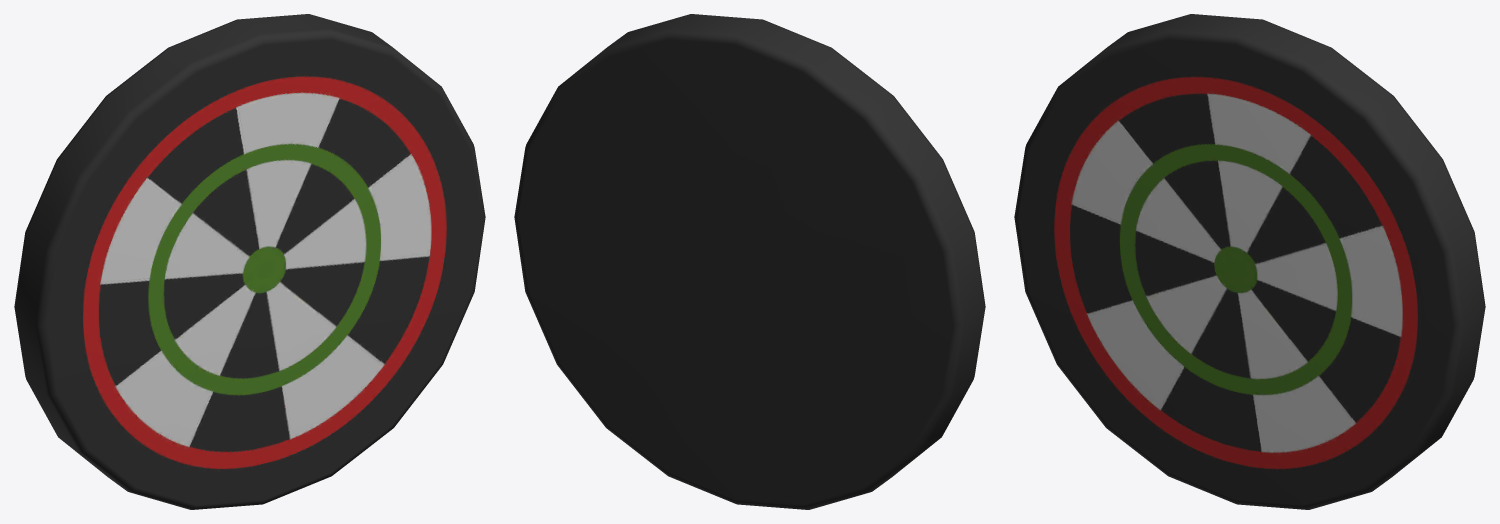
File: 0-dartboard.fbx
3 renders of one model, left to right at view 1: azimuth 30°, elevation 25°; view 2: azimuth 150°, elevation 25°; view 3: azimuth 330°, elevation 25°, orthographic.
Visible parts, largest first — view 1: 0-dartboard; view 2: 0-dartboard; view 3: 0-dartboard.
Boxes of the visible parts, <box> form: 0-dartboard: <box>14,14,485,509</box>; 0-dartboard: <box>514,14,985,509</box>; 0-dartboard: <box>1014,14,1485,509</box>.
Size of the model in its own units: 92.18 by 92.18 by 10.18.
